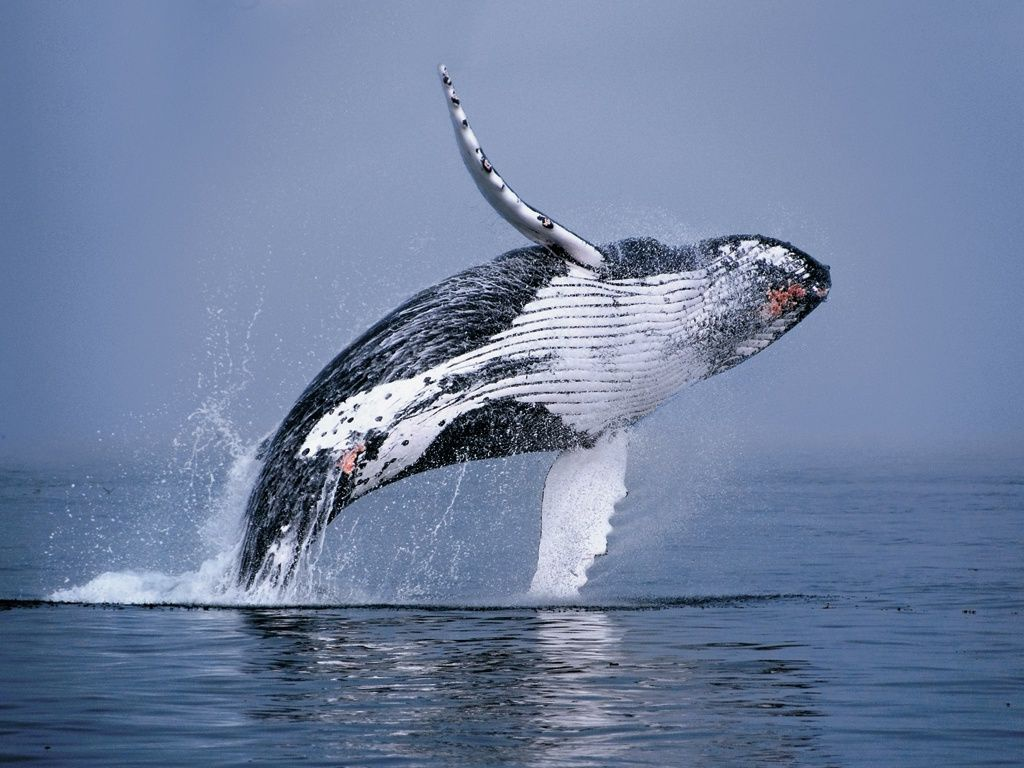humpback: (240, 233, 837, 588)
